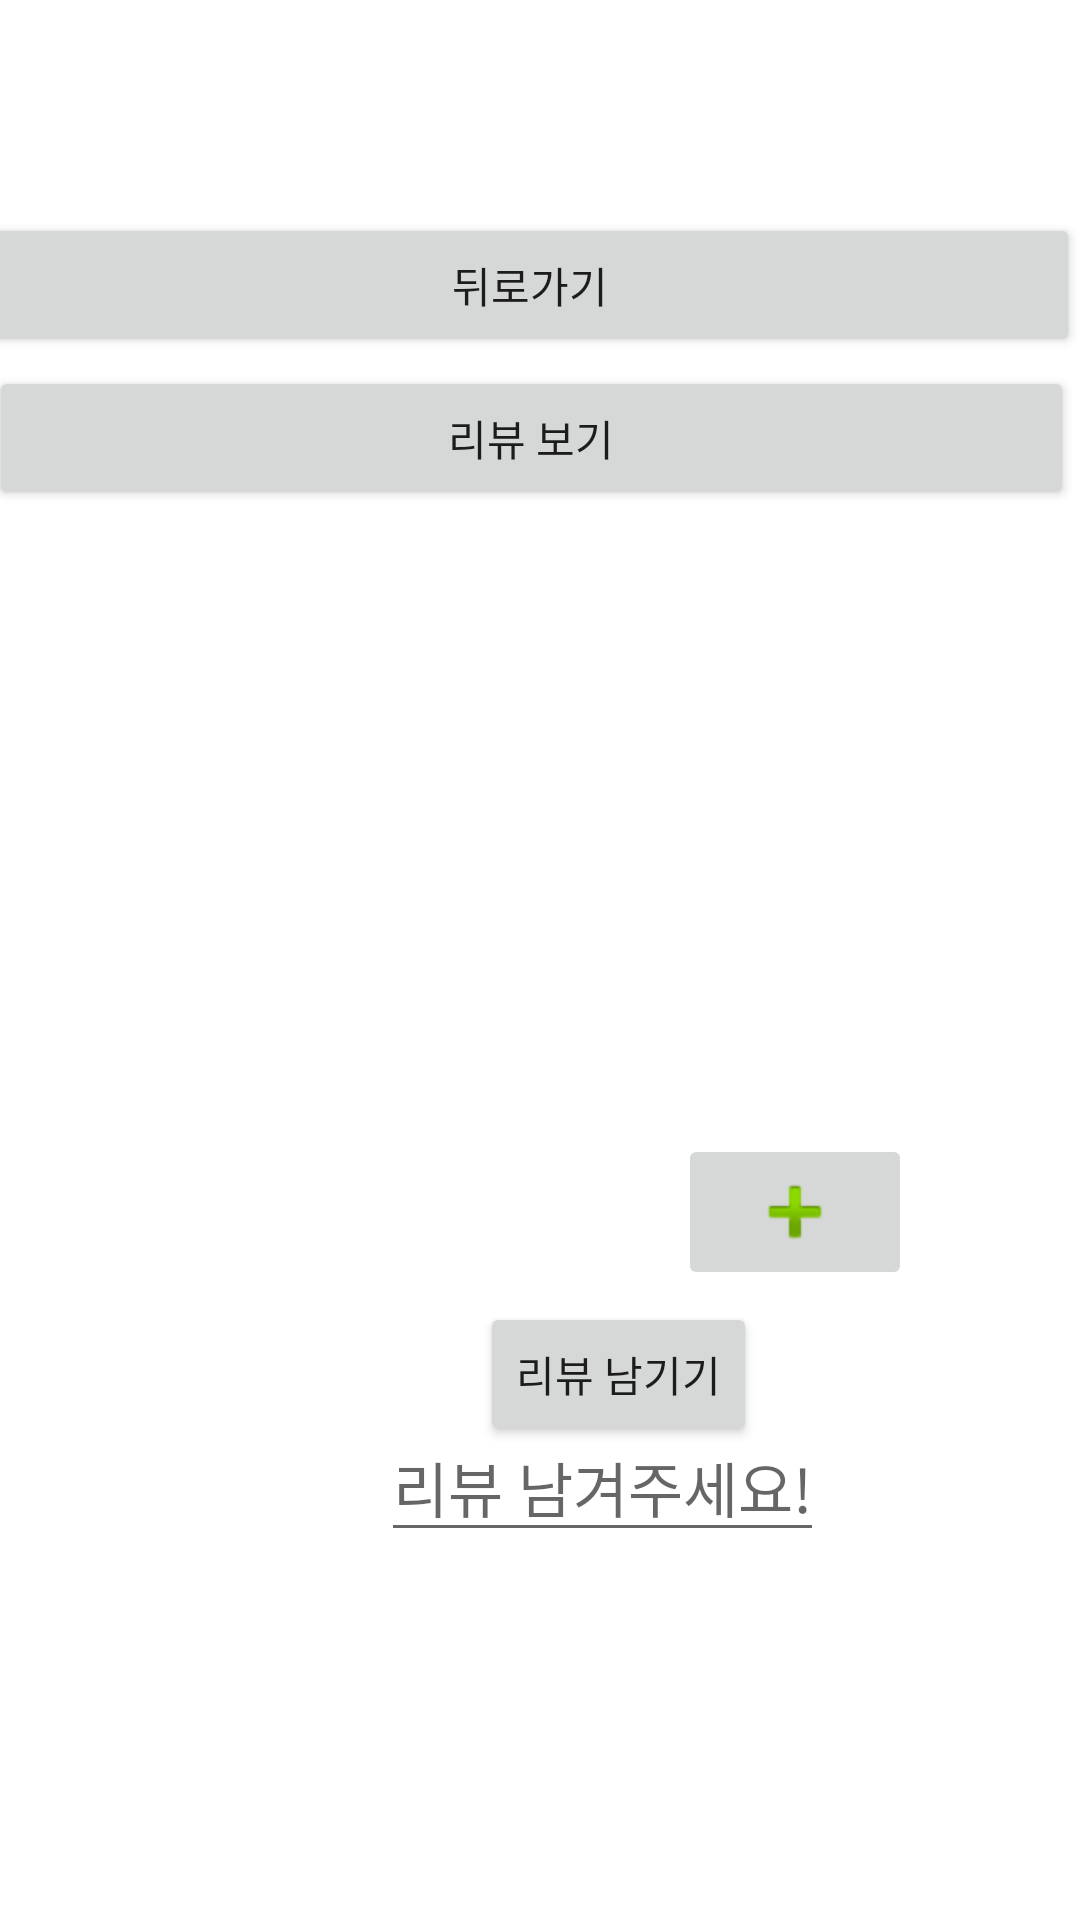

Where to tap for icons on this 1080*1920 app screen, as point (x, y):
add: point (795, 1212)
